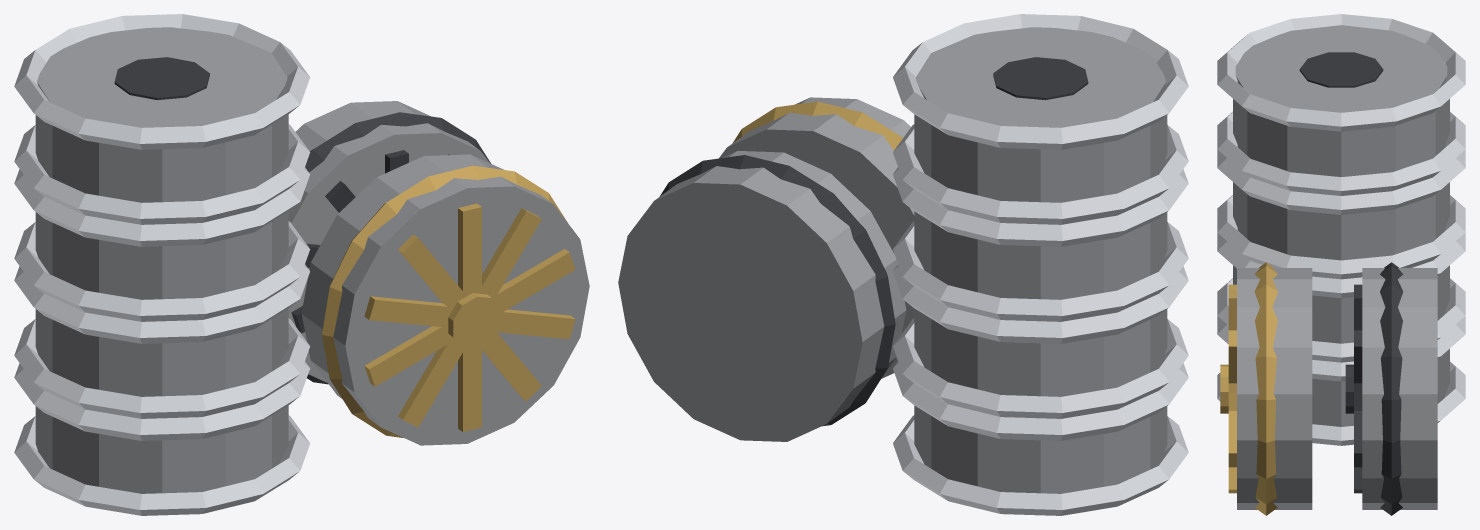
The model's file is rim_stack.glb.
3 renders of one model, left to right at view 1: azimuth 30°, elevation 25°; view 2: azimuth 150°, elevation 25°; view 3: azimuth 270°, elevation 25°, orthographic. The views are drawn at different scales.
Visible parts, largest first — view 1: rim_stack; view 2: rim_stack; view 3: rim_stack.
Part boxes in pixels (<box>): rim_stack: <box>14,14,589,515</box>; rim_stack: <box>618,14,1188,515</box>; rim_stack: <box>1217,14,1465,515</box>.
Bounding box in the file's own units: 1.19 × 0.8904 × 0.5947.
